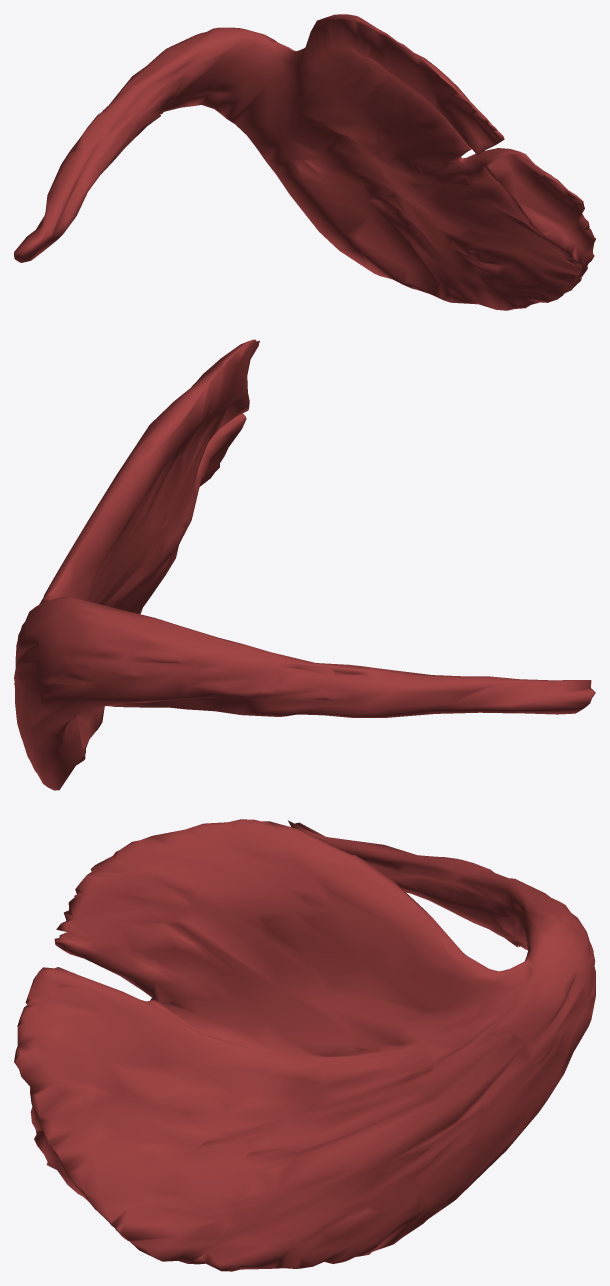
Rendered from obturator-internus-r.glb.
3 renders of one model, top to bottom at view 1: azimuth 30°, elevation 25°; view 2: azimuth 150°, elevation 25°; view 3: azimuth 270°, elevation 25°, orthographic. The views are drawn at different scales.
Parts seen in each view (by area): view 1: Obturator internus.r; view 2: Obturator internus.r; view 3: Obturator internus.r.
Part boxes in pixels (x1,y1,x2,y2): Obturator internus.r: (14, 14, 595, 310); Obturator internus.r: (14, 339, 595, 790); Obturator internus.r: (14, 819, 595, 1271).
Bounding box in the file's own units: 0.0977 × 0.0598 × 0.0816.
